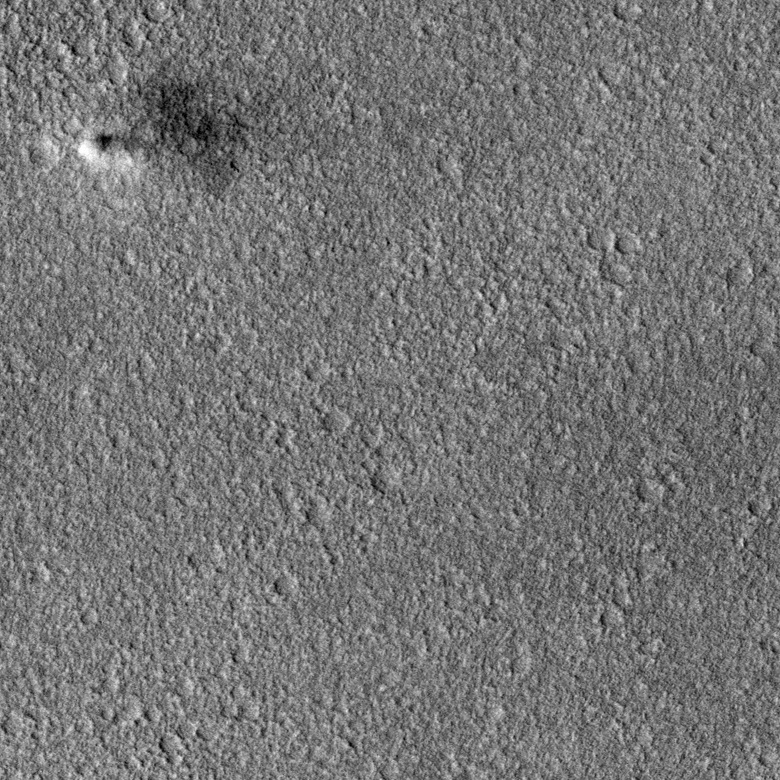dust_devil: (76, 72, 246, 194)
